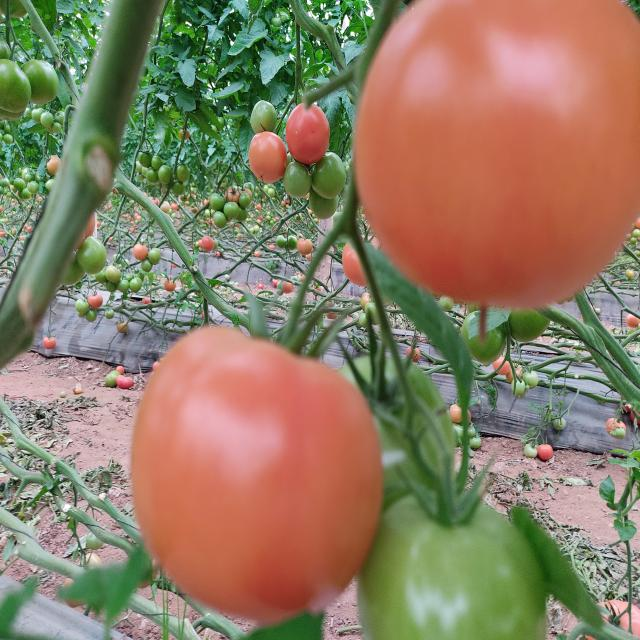Ripe Tomato: (349, 0, 640, 306), (134, 328, 380, 618), (288, 100, 329, 162), (250, 130, 288, 183)
Unripe Tomato: (360, 497, 541, 640), (462, 309, 512, 363), (312, 153, 346, 200), (80, 239, 107, 274), (287, 162, 312, 199), (250, 99, 275, 132)
